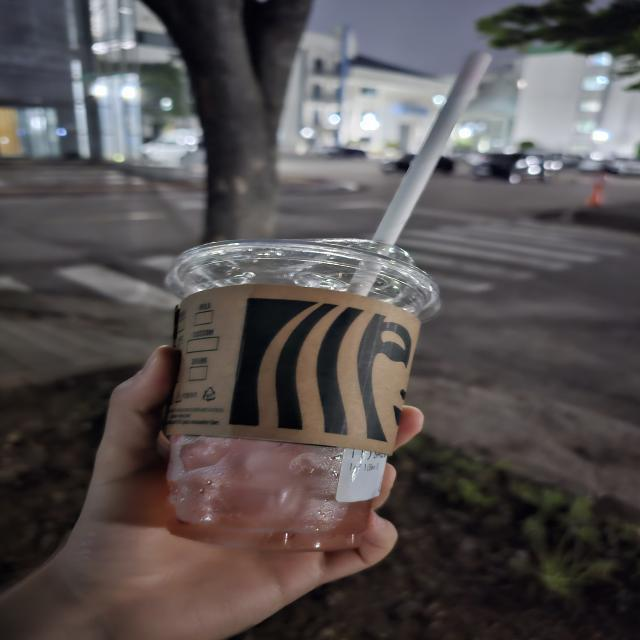cup: (148, 222, 444, 558)
